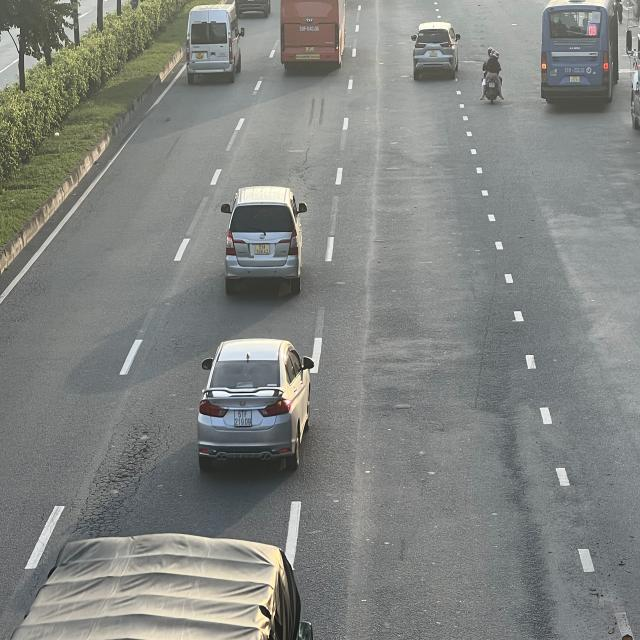car: (198, 340, 316, 475), (224, 187, 308, 293), (411, 21, 461, 79)
coach: (541, 0, 620, 103), (279, 0, 347, 67)
van: (185, 1, 243, 78)
